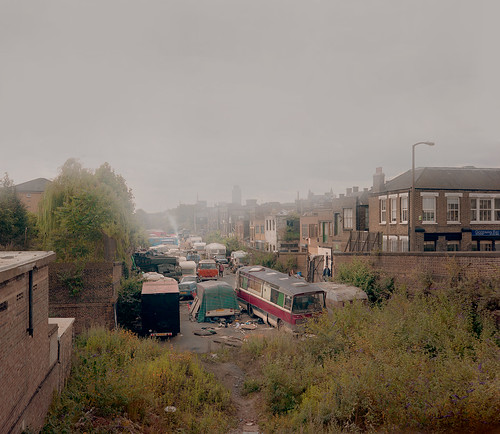building: (299, 160, 500, 252)
bus: (239, 265, 329, 338)
sky: (9, 1, 500, 165)
tree: (44, 157, 136, 263)
vegetation: (62, 288, 491, 434)
